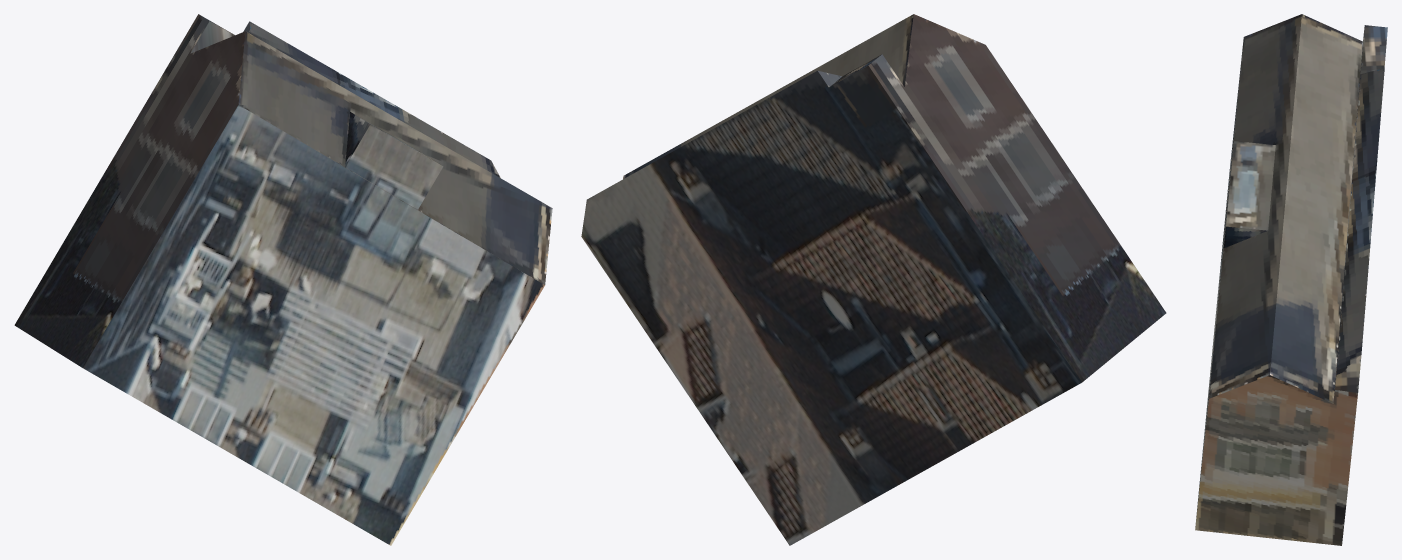
3 renders of one model, left to right at view 1: azimuth 30°, elevation 25°; view 2: azimuth 150°, elevation 25°; view 3: azimuth 270°, elevation 25°, orthographic. The views are drawn at different scales.
Parts seen in each view (by area): view 1: BAG_0599100000671720 (×6); view 2: BAG_0599100000671720 (×2); view 3: BAG_0599100000671720 (×6).
Part boxes in pixels (<box>): BAG_0599100000671720 (×6): <box>14,14,552,545</box>; BAG_0599100000671720 (×2): <box>581,14,1166,545</box>; BAG_0599100000671720 (×6): <box>1195,14,1387,545</box>.
Bounding box in the file's own units: 17.3 × 17.15 × 6.15.
7 materials, 7 textured.
